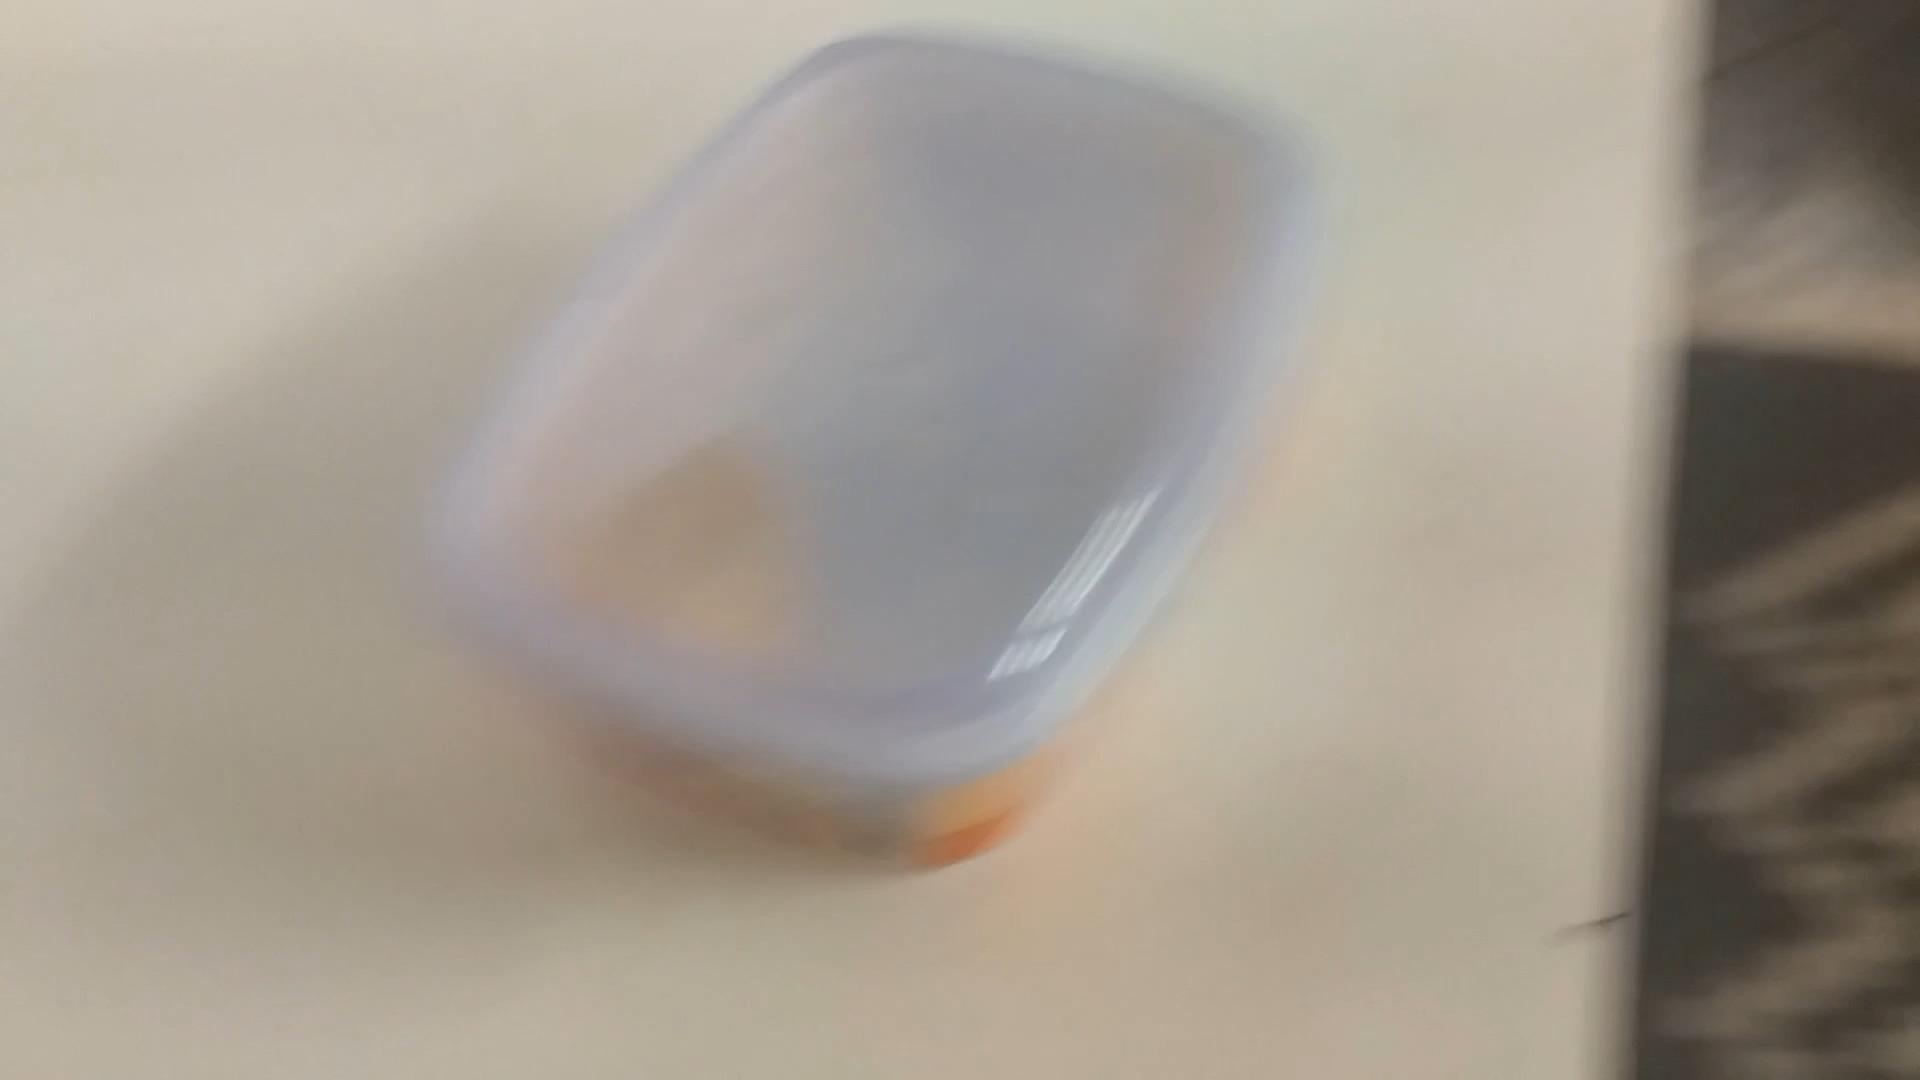butter: (390, 13, 1342, 893)
